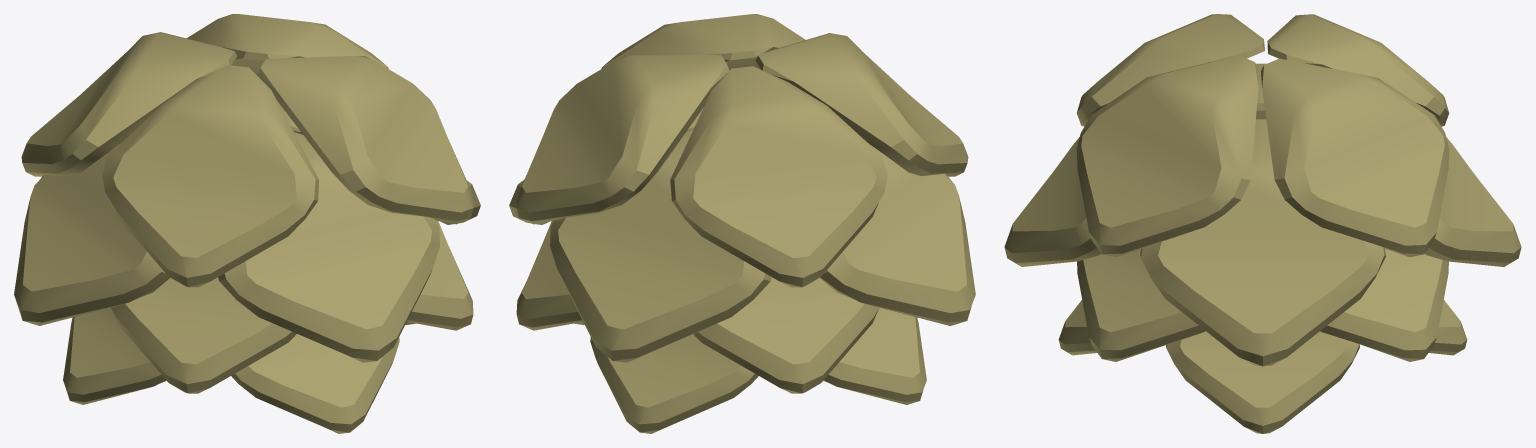
File: Bush.glb
3 views of the same model, side by side, from view 1: azimuth 30°, elevation 25°; view 2: azimuth 150°, elevation 25°; view 3: azimuth 270°, elevation 25° (orthographic).
Parts seen in each view (by area): view 1: Bush; view 2: Bush; view 3: Bush.
Boxes of the visible parts, x1=… form: Bush: x1=14, y1=14, x2=480, y2=433; Bush: x1=509, y1=14, x2=975, y2=433; Bush: x1=1004, y1=14, x2=1521, y2=433.
Bounding box in the file's own units: 3.09 × 1.96 × 3.09.
1 material, 1 textured.
